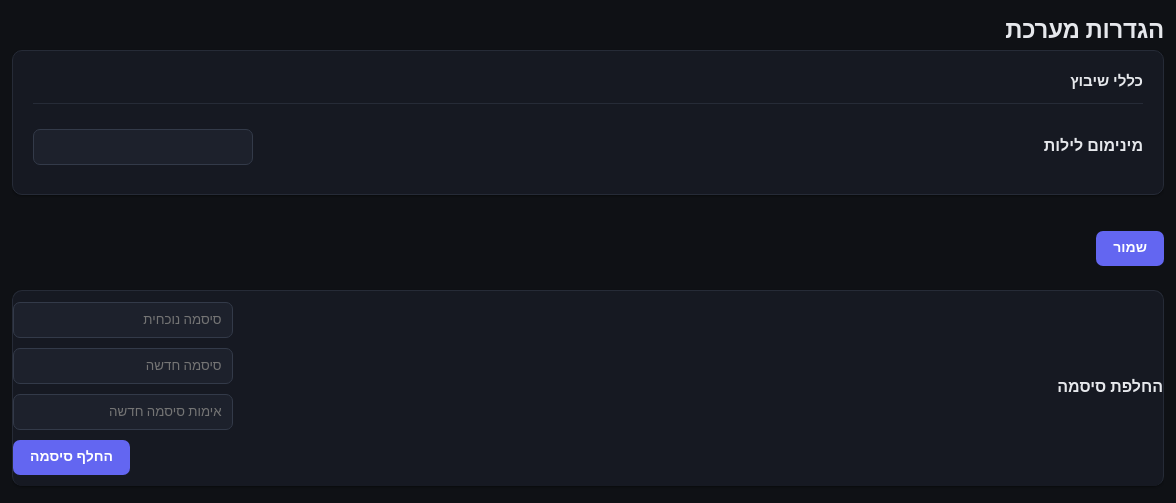
Scenario: SettingsPage › blocks save when auto-lock is before auto-open
Click the button "שמור": (1130, 248) left=1096, top=231, right=1164, bottom=266
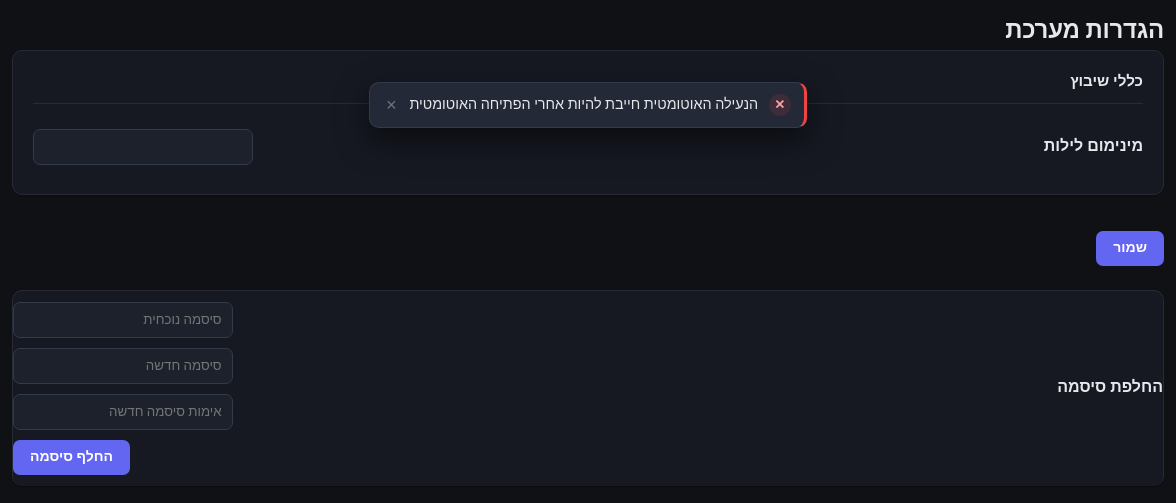
Check: the text "הנעילה האוטומטית חייבת להיות אחרי הפתיחה האוטומטית" is shown, box left=409, top=95, right=758, bottom=115
